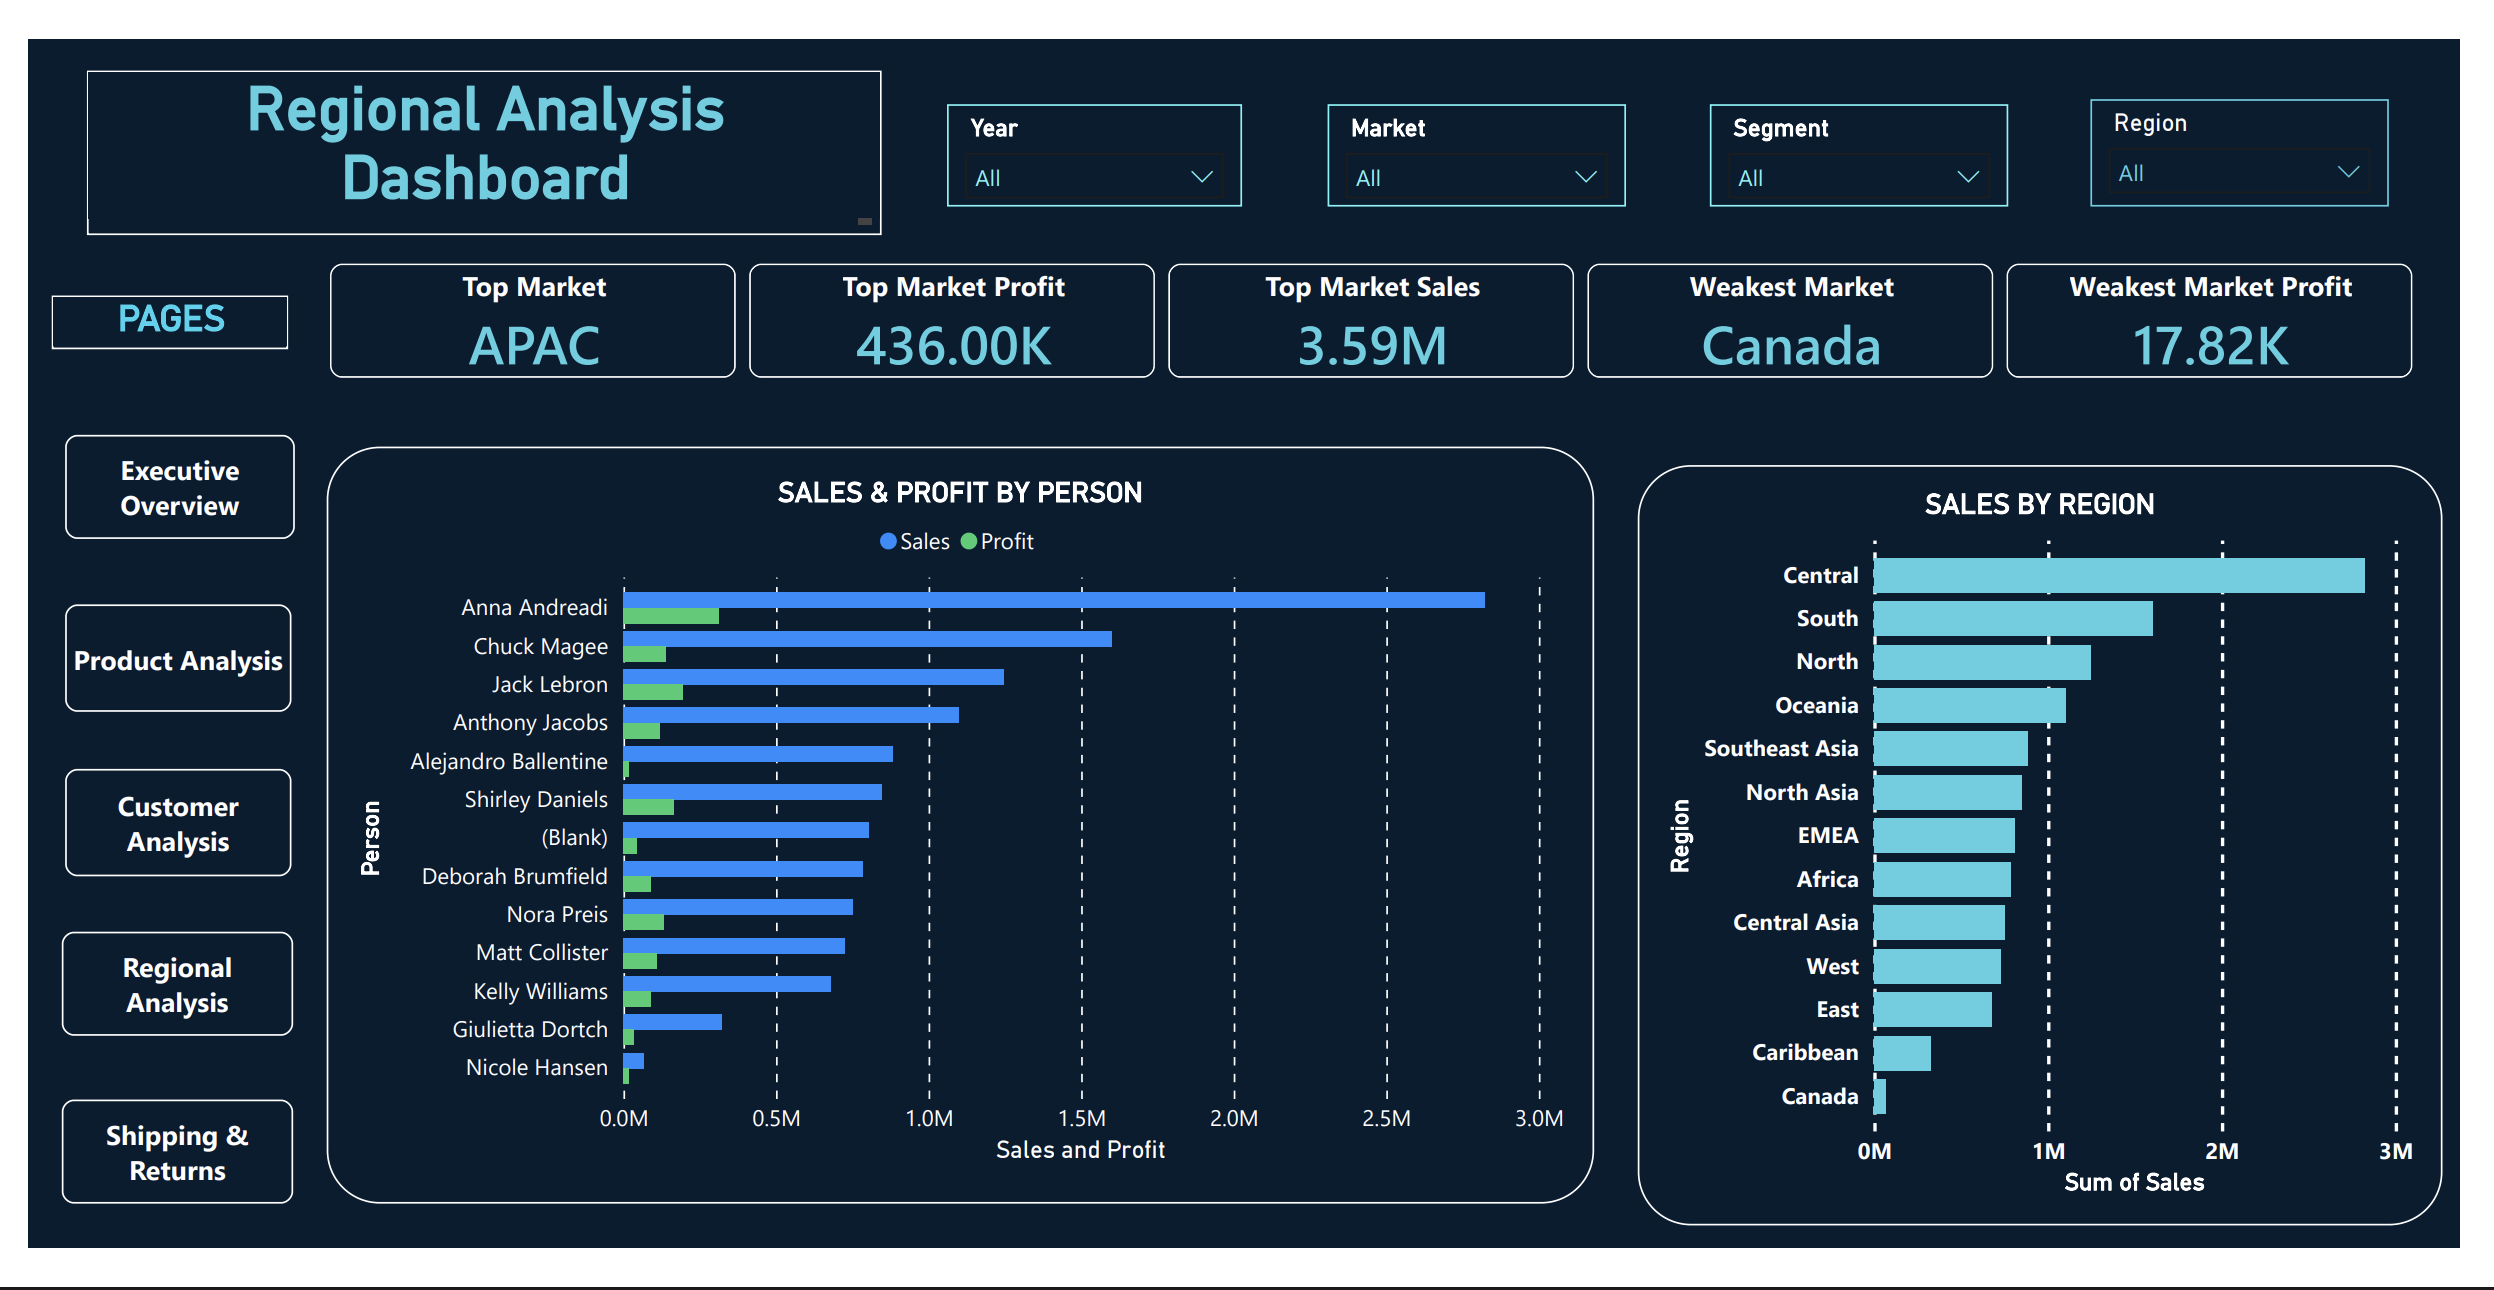

Layout of this report page (visuals, bound fields, positions):
{"tool":"powerbi","page":{"name":"Page 4","canvas":[1450,720],"ordinal":3},"visuals":[{"type":"shape","box":[177.8,242.9,756.1,451.1],"z":0},{"type":"cardVisual","fields":{"Data":["Orders.Top Market","Orders.Top Market Profit","Orders.Top Market Sales","Orders.Weakest Market","Orders.Weakest Market Profit"]},"box":[163.4,117.1,1276.6,102.7],"z":1000},{"type":"clusteredBarChart","title":"SALES & PROFIT BY PERSON","fields":{"Category":["People.Person"],"Y":["Sum(Orders.Sales)","Sum(Orders.Profit)"]},"box":[190.8,260.2,730.1,414.9],"z":2000},{"type":"textbox","title":"Regional Analysis Dashboard","box":[34.7,18.8,474.2,98.3],"z":3000},{"type":"slicer","fields":{"Values":["Orders.Region"]},"box":[1230.4,36.1,177.8,63.6],"z":4000},{"type":"slicer","fields":{"Values":["Orders.Order Date.Variation.Date Hierarchy.Year"]},"box":[548,39,176.4,60.7],"z":5000},{"type":"slicer","fields":{"Values":["Orders.Market"]},"box":[774.9,39,177.8,60.7],"z":6000},{"type":"slicer","fields":{"Values":["Orders.Segment"]},"box":[1003.4,39,177.8,60.7],"z":7000},{"type":"shape","box":[960,254.5,480,452.5],"z":8000},{"type":"clusteredBarChart","title":"SALES BY REGION","fields":{"Category":["Orders.Region"],"Y":["Sum(Orders.Sales)"]},"box":[971.6,267.5,456.9,426.5],"z":9000},{"type":"actionButton","box":[20.2,631.8,137.3,62.2],"z":10000},{"type":"actionButton","box":[20.2,532,137.3,62.2],"z":11000},{"type":"actionButton","box":[21.9,434.8,135.5,64.5],"z":12000},{"type":"actionButton","box":[21.9,336.8,135.5,64.5],"z":13000},{"type":"actionButton","box":[21.6,235.8,137.5,62],"z":14000},{"type":"textbox","title":"PAGES","box":[14.5,153.3,140.2,31.8],"z":15000}]}

Visuals, with their boxes on the page's 1450x720 design canvas (x1, y1, x2, y2). These are canvas units, not pixel positions in the 2494x1290 screenshot, which may show the page scaled, cropped or inside an application window:
shape: pyautogui.locateOnScreen(178, 243, 934, 694)
cardVisual - Orders.Top Market x Orders.Top Market Profit: pyautogui.locateOnScreen(163, 117, 1440, 220)
"SALES & PROFIT BY PERSON" clusteredBarChart: pyautogui.locateOnScreen(191, 260, 921, 675)
"Regional Analysis Dashboard" textbox: pyautogui.locateOnScreen(35, 19, 509, 117)
slicer - Orders.Region: pyautogui.locateOnScreen(1230, 36, 1408, 100)
slicer - Orders.Order Date.Variation.Date Hierarchy.Year: pyautogui.locateOnScreen(548, 39, 724, 100)
slicer - Orders.Market: pyautogui.locateOnScreen(775, 39, 953, 100)
slicer - Orders.Segment: pyautogui.locateOnScreen(1003, 39, 1181, 100)
shape: pyautogui.locateOnScreen(960, 254, 1440, 707)
"SALES BY REGION" clusteredBarChart: pyautogui.locateOnScreen(972, 268, 1428, 694)
actionButton: pyautogui.locateOnScreen(20, 632, 158, 694)
actionButton: pyautogui.locateOnScreen(20, 532, 158, 594)
actionButton: pyautogui.locateOnScreen(22, 435, 157, 499)
actionButton: pyautogui.locateOnScreen(22, 337, 157, 401)
actionButton: pyautogui.locateOnScreen(22, 236, 159, 298)
"PAGES" textbox: pyautogui.locateOnScreen(14, 153, 155, 185)
